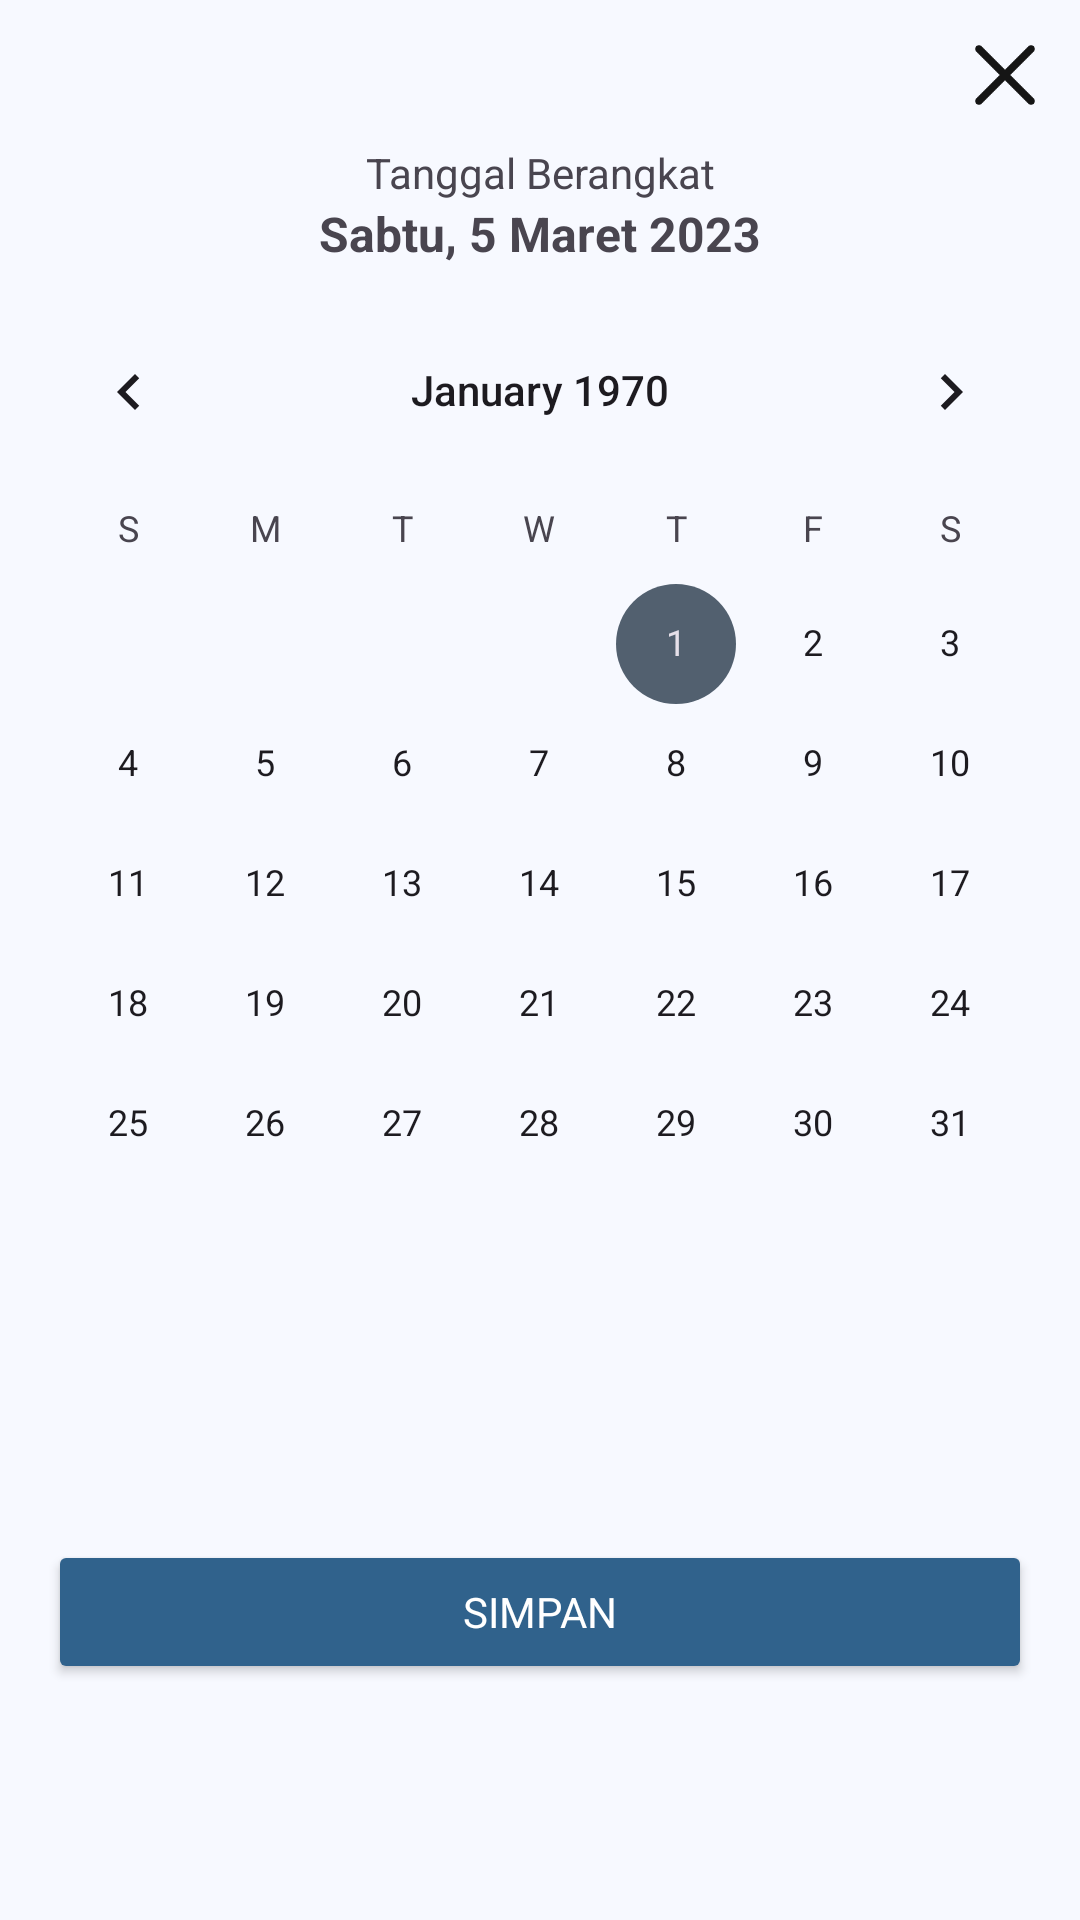

Screen size 1080x1920. Icon name, then its center in pixels as point (x, y):
close: point (1005, 75)
